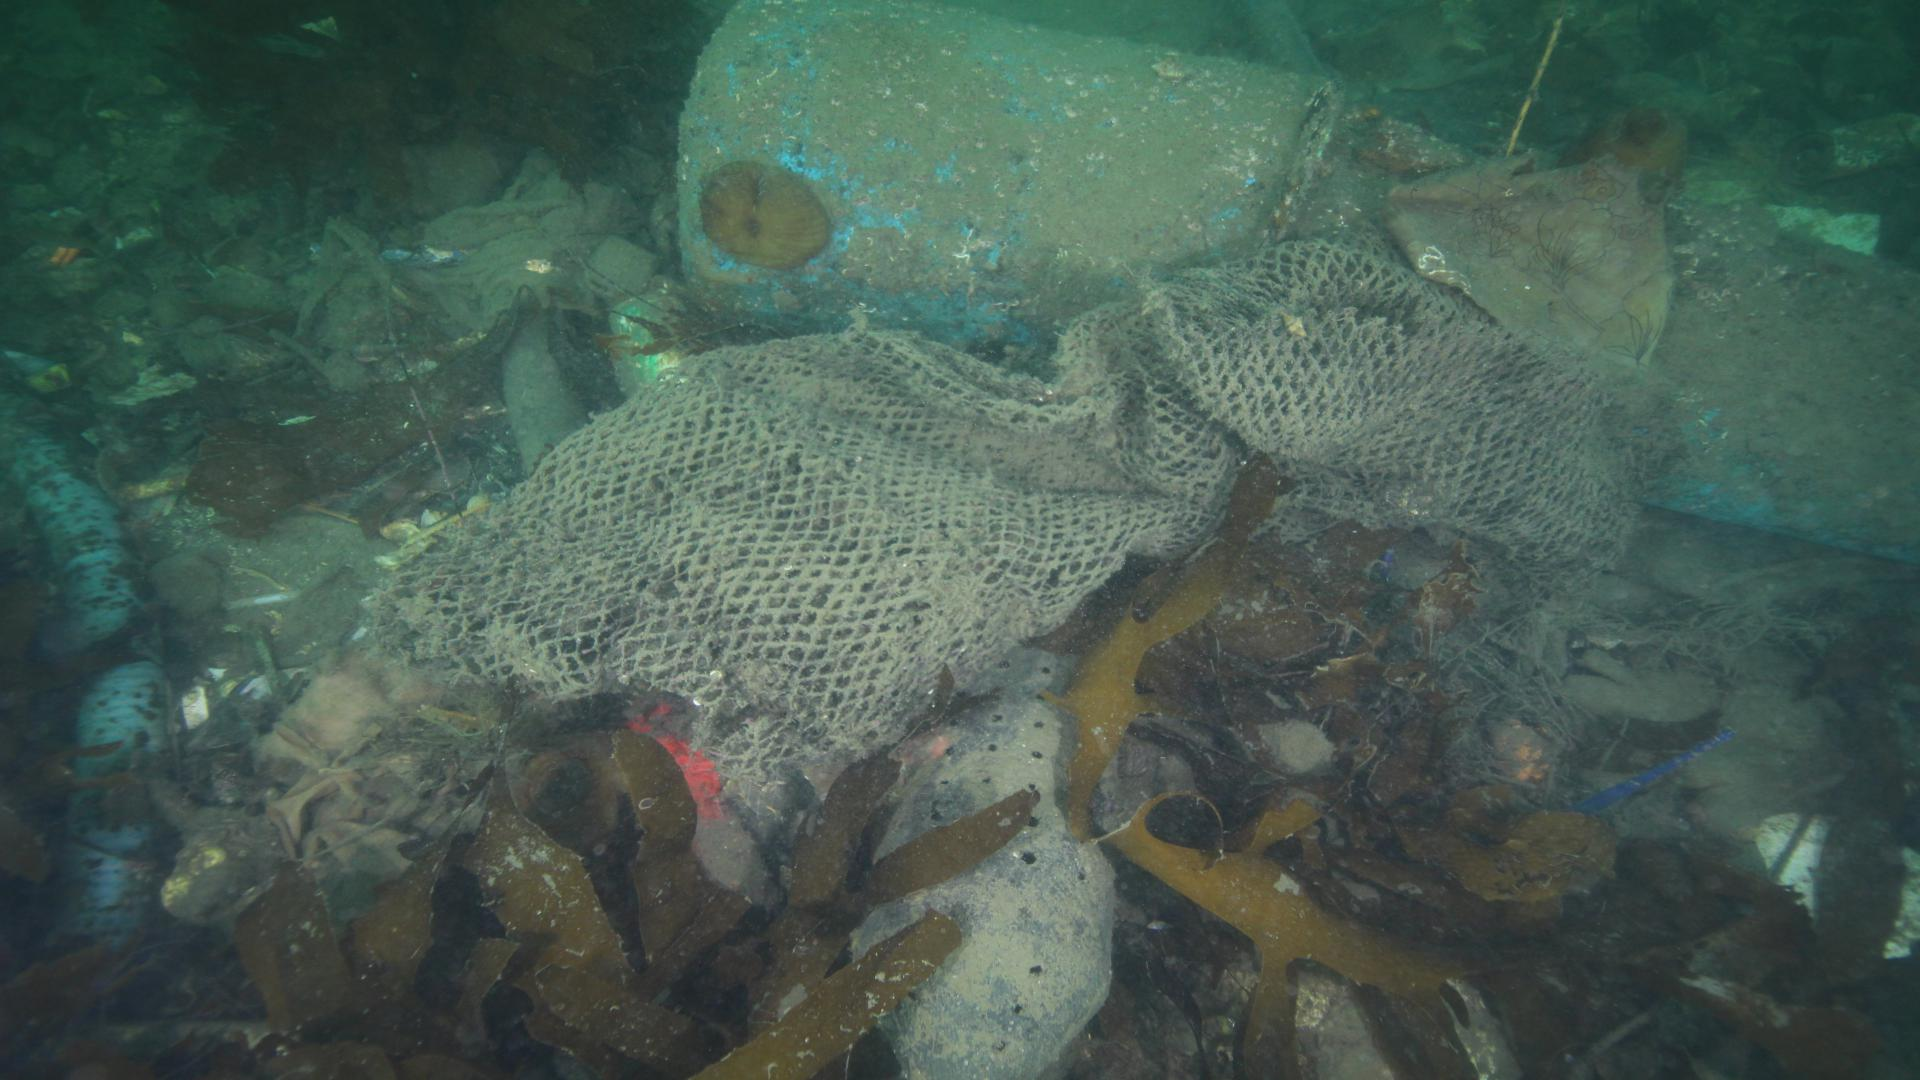fish net: (389, 239, 1629, 775)
